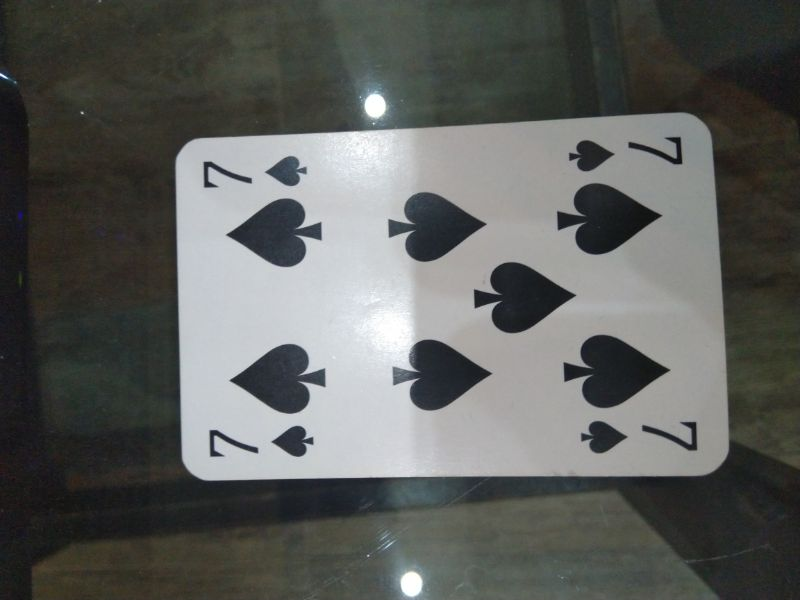7s: (565, 129, 688, 177), (574, 414, 703, 457), (206, 421, 323, 463), (200, 152, 312, 194)
